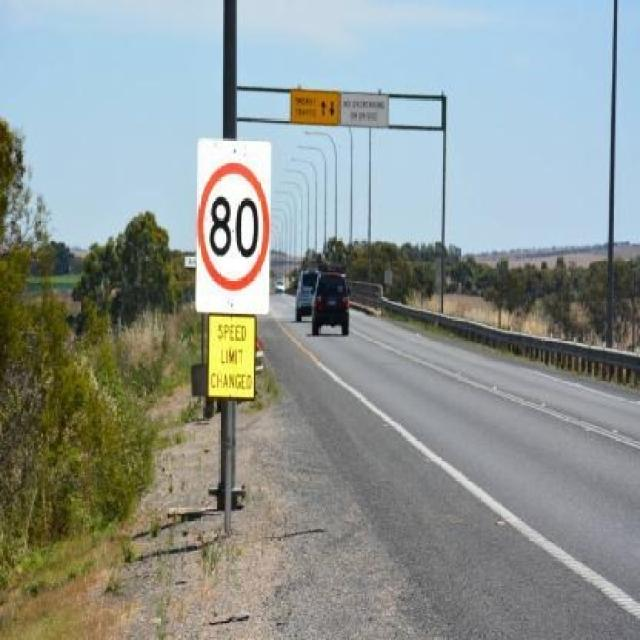forb_speed_over_80: (202, 161, 267, 290)
